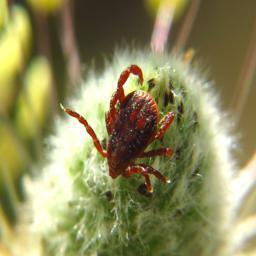Rhipicephalus sanguineus: (60, 63, 175, 194)
